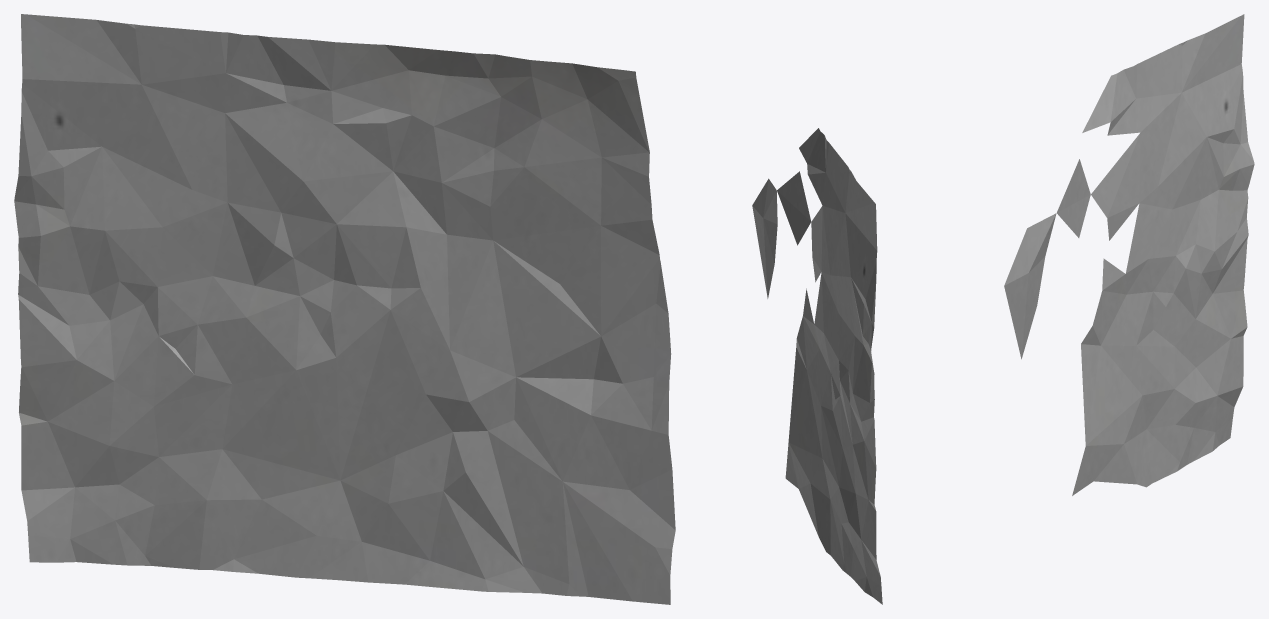
3 views of the same model, side by side, from view 1: azimuth 30°, elevation 25°; view 2: azimuth 150°, elevation 25°; view 3: azimuth 270°, elevation 25° (orthographic). The views are drawn at different scales.
Size of the model in its own units: 0.715 by 0.8374 by 0.6143.
3 materials, 3 textured.
